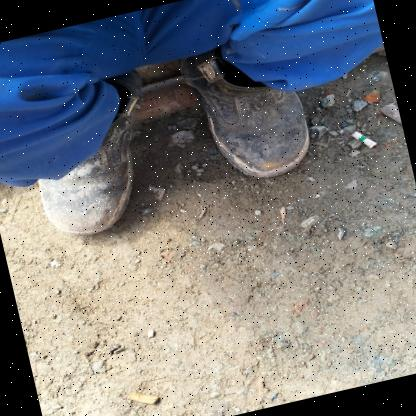bota: (166, 25, 328, 194), (0, 92, 162, 249)
